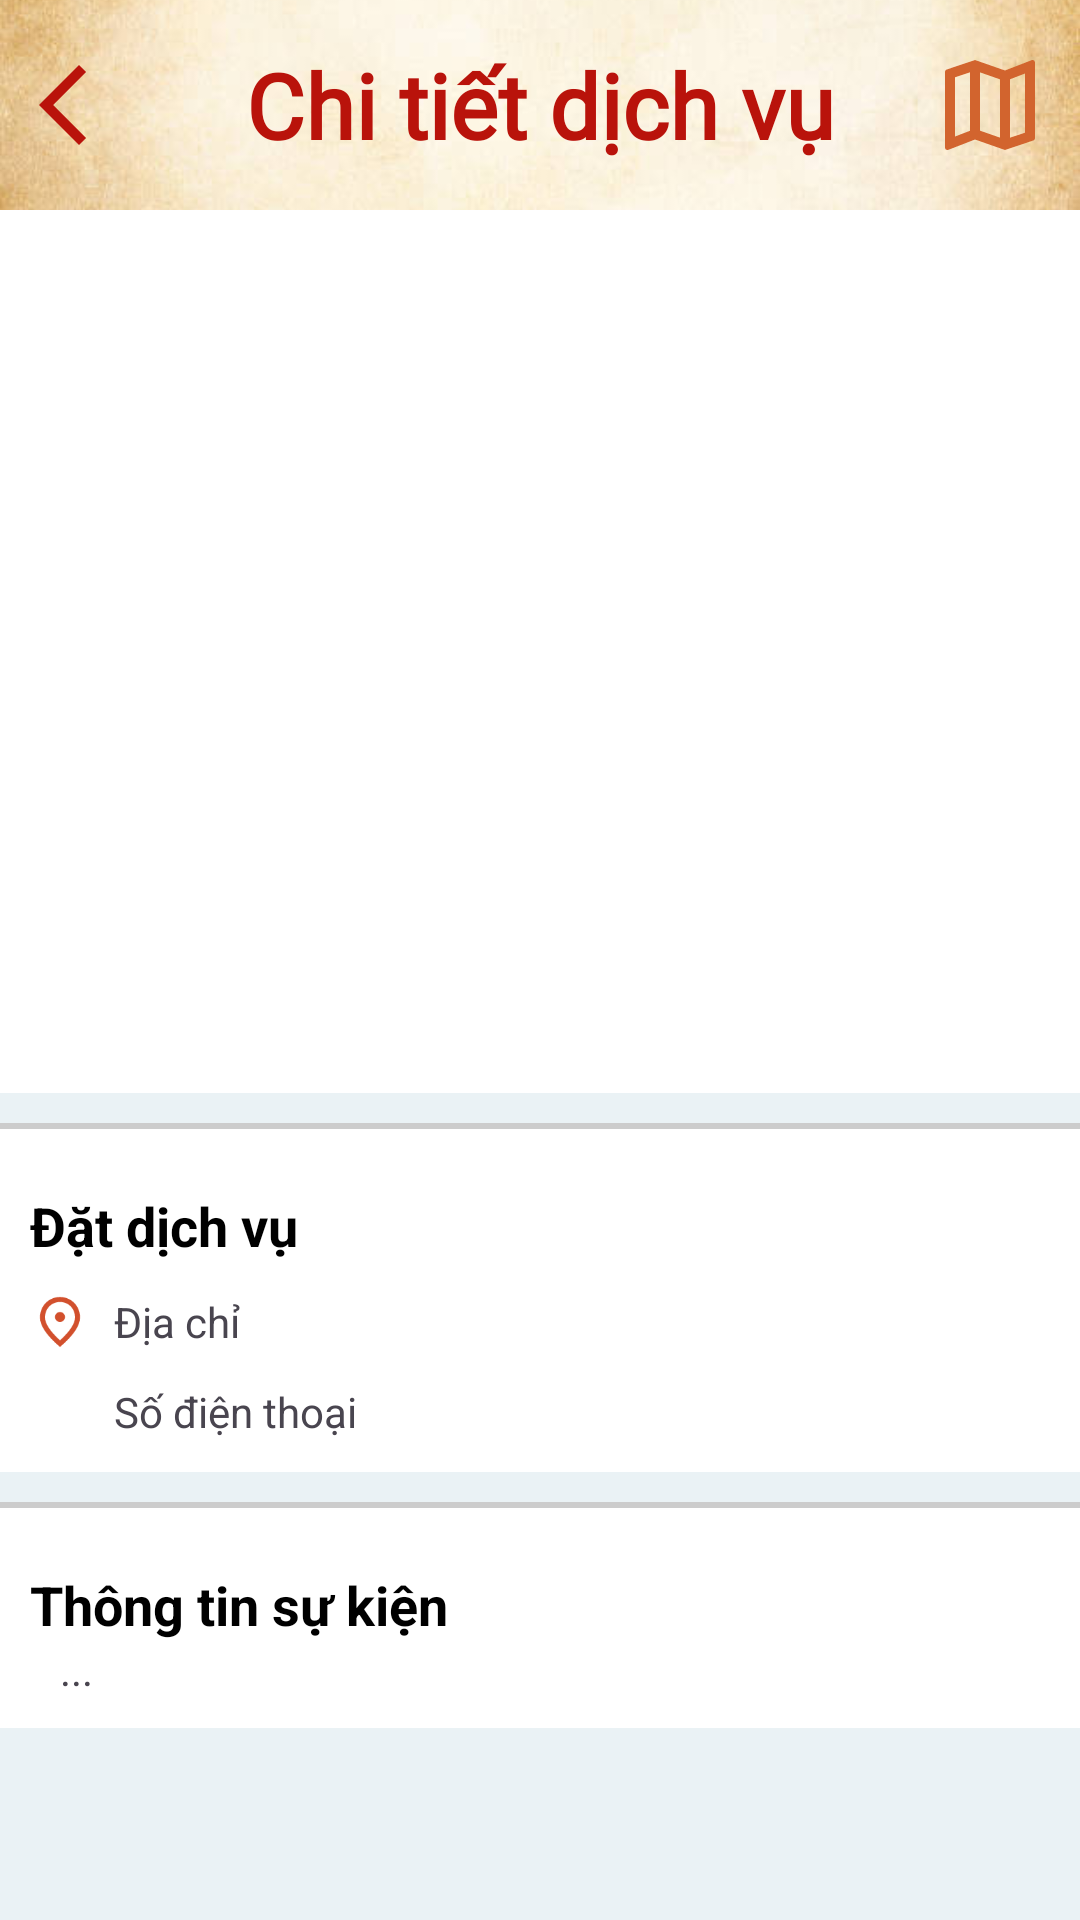

Point at icon controls on the screen. Image size 1080w x 1920h, points as [x,y].
place: [60,1322]
